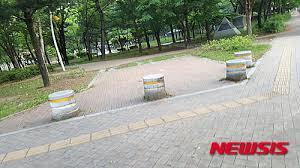Animal: (54, 90, 79, 116), (224, 57, 245, 86), (141, 74, 164, 99)
